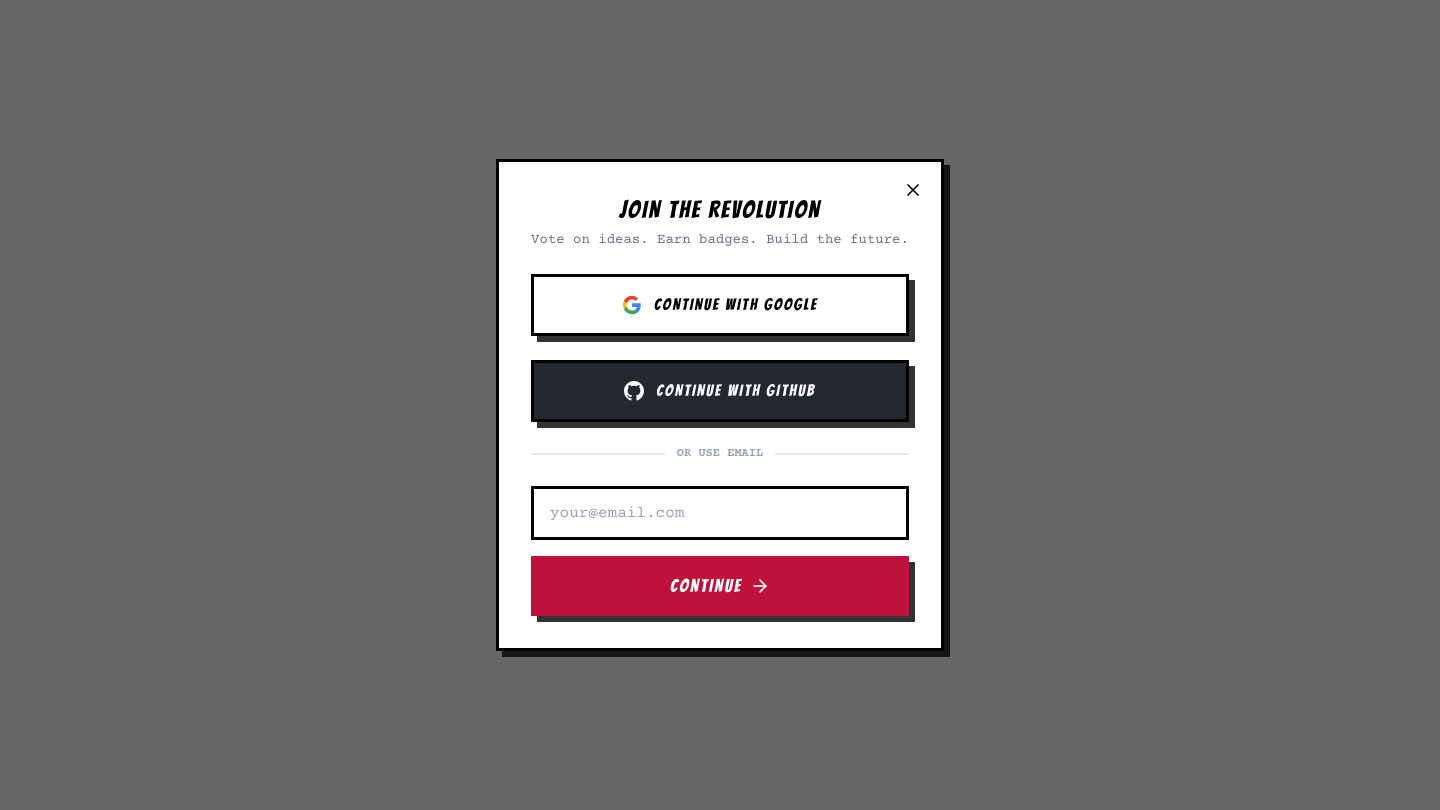
Test: AuthModal › shows branded error for missing name on submit
The image size is (1440, 810).
Type "existing@example.com" into the field with placeholder "your@email.com" at (720, 513), box x1=531 y1=486 x2=909 y2=540
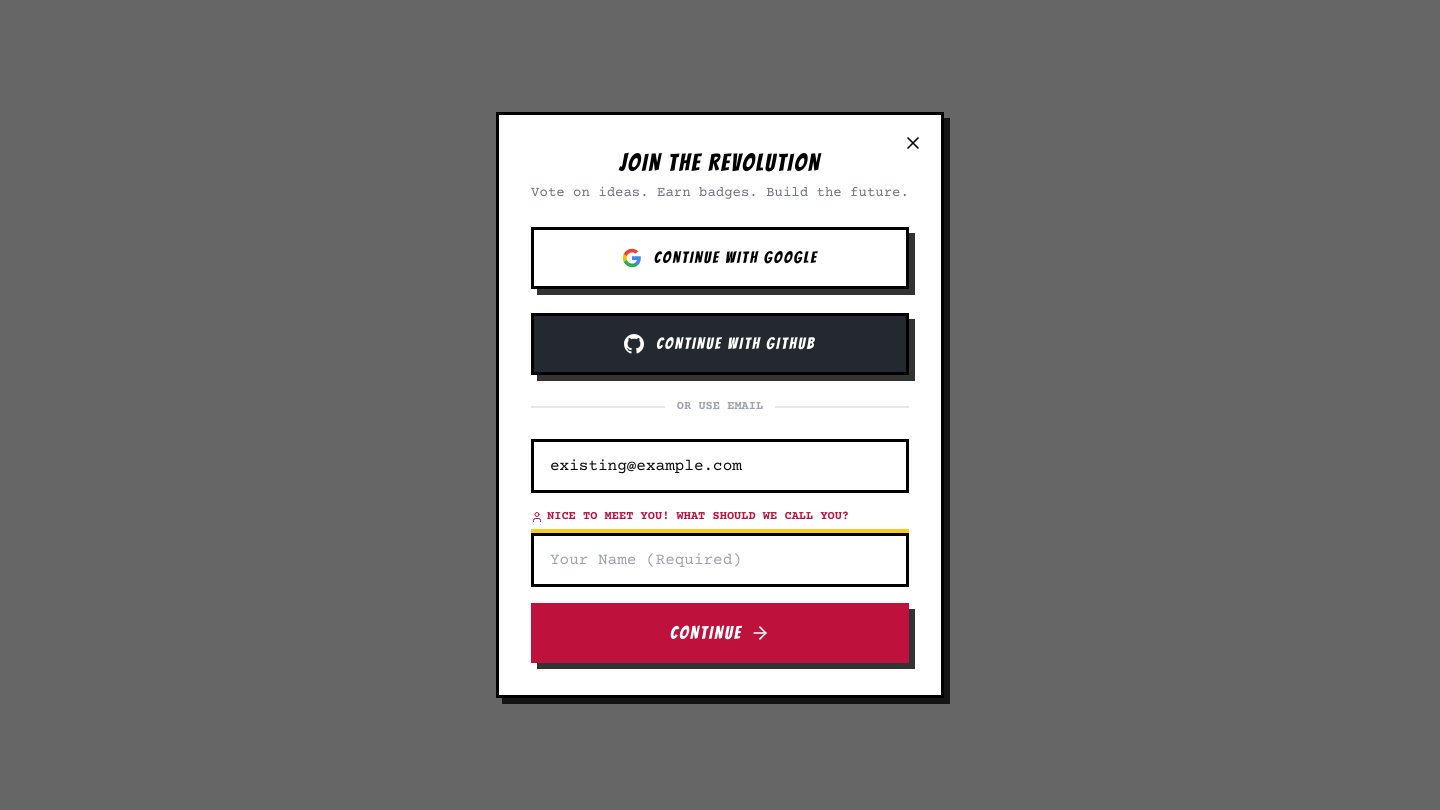
Expected: the field with placeholder "Your Name (Required)" is shown, x1=531 y1=533 x2=909 y2=587
Submit without filling name
Click the button "CONTINUE" at (720, 633), box x1=531 y1=603 x2=909 y2=663
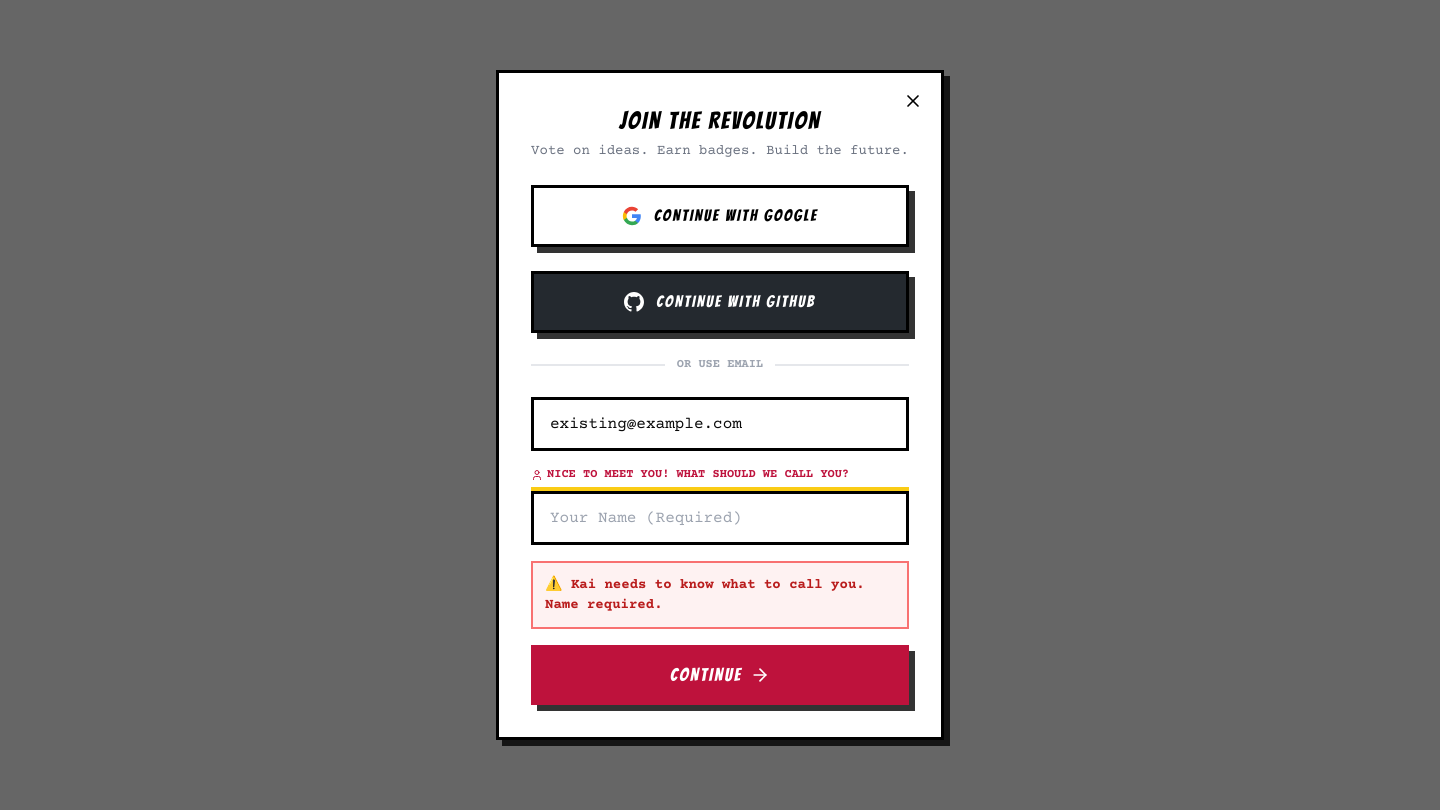
Expected: the text "⚠️ Kai needs to know what to call you. Name required." is shown, x1=531 y1=561 x2=909 y2=629
